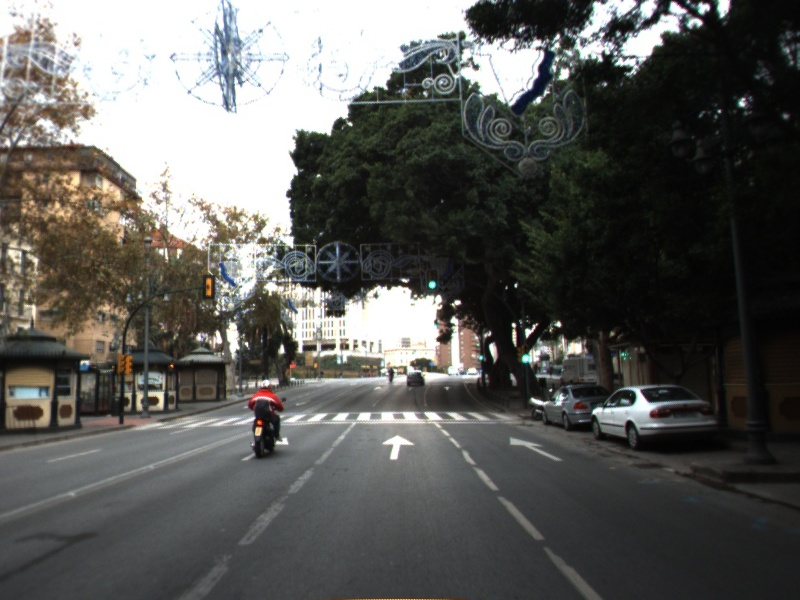STRAIGHT: (506, 435, 566, 463), (237, 433, 292, 463), (379, 433, 417, 461)
